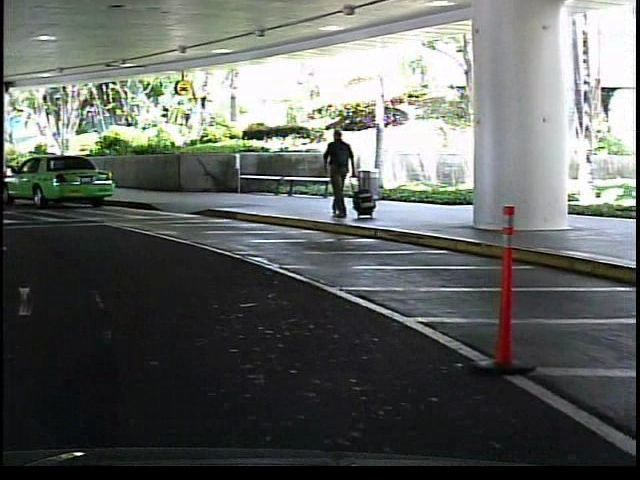person: (314, 122, 357, 228)
